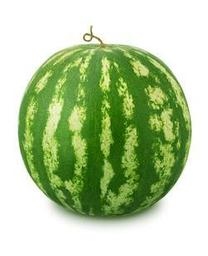watermelon: (18, 43, 192, 222)
